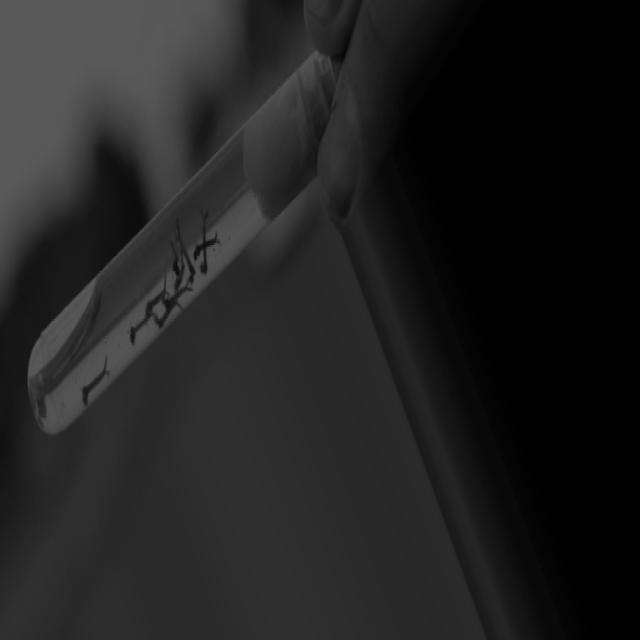larvas: (80, 360, 108, 405), (176, 228, 196, 284), (128, 311, 156, 343), (162, 284, 189, 311), (145, 287, 168, 315), (195, 237, 220, 259), (200, 214, 209, 274), (172, 260, 185, 292), (154, 310, 168, 328), (171, 242, 179, 270)
